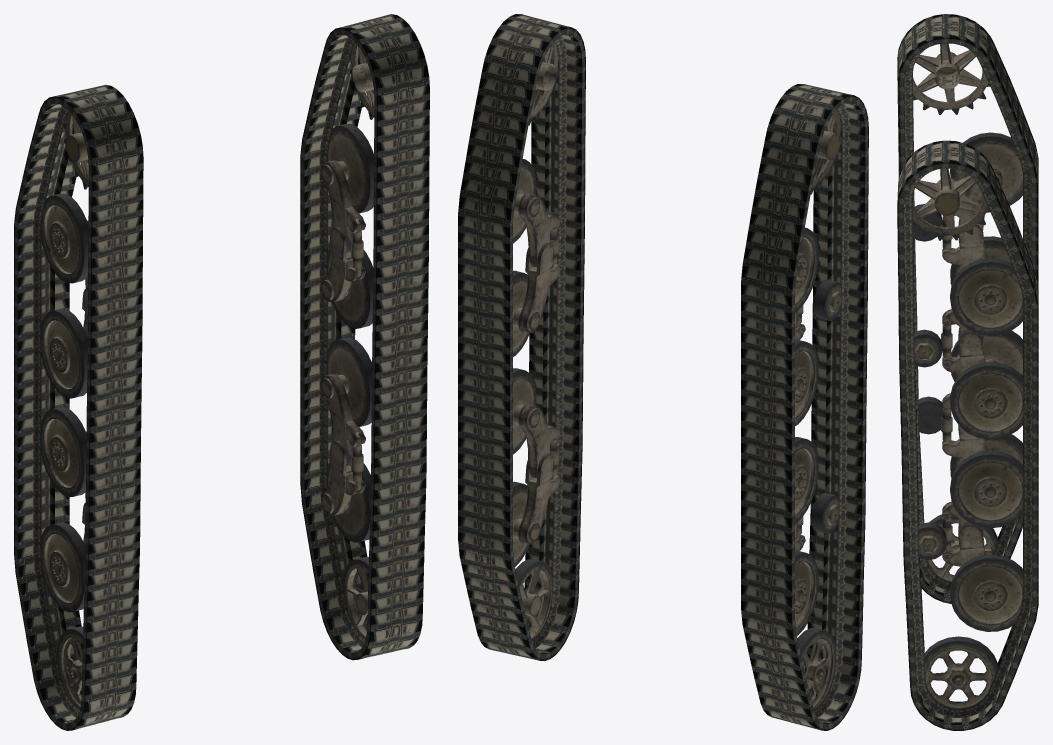
File: Chassis.glb
The picture shows the model from 3 angles, left to right: view 1: azimuth 30°, elevation 25°; view 2: azimuth 150°, elevation 25°; view 3: azimuth 270°, elevation 25°; orthographic projection. The views are drawn at different scales.
Visible parts, largest first — view 1: set_0_group_0, set_1_group_0, set_3_group_0, set_2_group_0; view 2: set_0_group_0, set_1_group_0, set_3_group_0, set_2_group_0; view 3: set_3_group_0, set_1_group_0, set_2_group_0, set_0_group_0.
Boxes of the visible parts, x1=… form: set_0_group_0: x1=14, y1=84, x2=143, y2=730; set_1_group_0: x1=300, y1=14, x2=429, y2=660; set_3_group_0: x1=321, y1=43, x2=374, y2=637; set_2_group_0: x1=41, y1=112, x2=88, y2=708; set_0_group_0: x1=741, y1=84, x2=868, y2=730; set_1_group_0: x1=458, y1=14, x2=585, y2=660; set_3_group_0: x1=513, y1=42, x2=560, y2=639; set_2_group_0: x1=795, y1=110, x2=841, y2=708; set_3_group_0: x1=912, y1=168, x2=1023, y2=708; set_1_group_0: x1=897, y1=140, x2=1038, y2=730; set_2_group_0: x1=913, y1=43, x2=1022, y2=581; set_0_group_0: x1=897, y1=14, x2=1038, y2=603.
Bounding box in the file's own units: 2.07 × 3.7 × 0.8348.
Materials: 4 (4 with a texture image).
